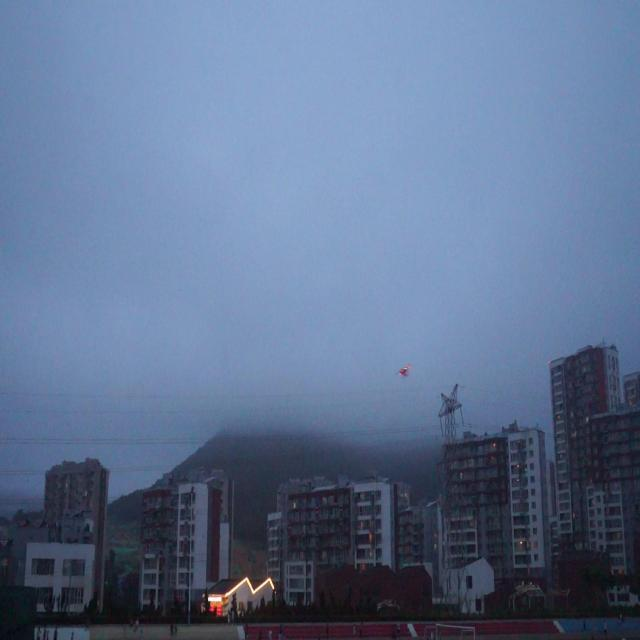drone: (395, 362, 412, 383)
